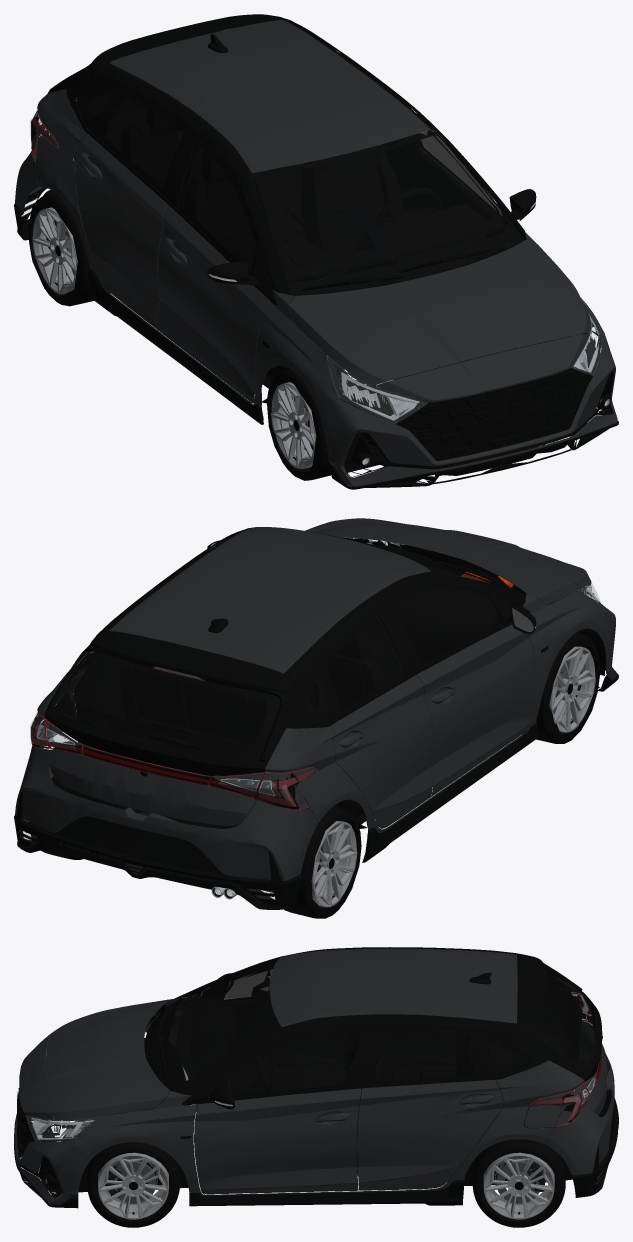
The model's file is nova-leoes-hatch-v1.glb.
3 views of the same model, one above another, from view 1: azimuth 30°, elevation 25°; view 2: azimuth 150°, elevation 25°; view 3: azimuth 270°, elevation 25° (orthographic). The views are drawn at different scales.
Visible parts, largest first — view 1: NL_CARROCERIA_PINTURA, NL_CARROCERIA_VIDRO, NL_CARROCERIA_INTERIOR, NL_CARROCERIA_PRETO, NL_TETO_PINTURA, NL_CAPO_PINTURA, NL_CARROCERIA_PLASTICO, NL_CARROCERIA_RODA, NL_CARROCERIA_PNEU, NL_CARROCERIA_LENTE, NL_CARROCERIA_CROMO, NL_PORTA_DE_VIDRO (+4 smaller); view 2: NL_CARROCERIA_PINTURA, NL_CARROCERIA_PRETO, NL_CARROCERIA_VIDRO, NL_CARROCERIA_INTERIOR, NL_TETO_PINTURA, NL_CARROCERIA_PLASTICO, NL_CAPO_PINTURA, NL_CARROCERIA_RODA, NL_CARROCERIA_PNEU, NL_CARROCERIA_LENTE, NL_CARROCERIA_LANTERNA, NL_TETO_PLASTICO (+1 smaller); view 3: NL_CARROCERIA_INTERIOR, NL_CARROCERIA_PRETO, NL_TETO_PINTURA, NL_PORTA_DE_PINTURA, NL_CARROCERIA_PINTURA, NL_CARROCERIA_VIDRO, NL_PORTA_TE_PINTURA, NL_CAPO_PINTURA, NL_PORTA_DE_VIDRO, NL_CARROCERIA_PLASTICO, NL_PARALAMA_DE_PINTURA, NL_PORTA_TE_VIDRO (+17 smaller).
Boxes of the visible parts, bbox=[...] form: NL_CARROCERIA_PINTURA: bbox=[15, 88, 617, 486]; NL_CARROCERIA_VIDRO: bbox=[77, 28, 523, 295]; NL_CARROCERIA_INTERIOR: bbox=[75, 75, 507, 382]; NL_CARROCERIA_PRETO: bbox=[14, 14, 618, 489]; NL_TETO_PINTURA: bbox=[109, 20, 430, 173]; NL_CAPO_PINTURA: bbox=[289, 239, 591, 385]; NL_CARROCERIA_PLASTICO: bbox=[26, 83, 613, 484]; NL_CARROCERIA_RODA: bbox=[32, 207, 316, 468]; NL_CARROCERIA_PNEU: bbox=[28, 192, 337, 480]; NL_CARROCERIA_LENTE: bbox=[22, 109, 610, 464]; NL_CARROCERIA_CROMO: bbox=[37, 115, 609, 464]; NL_PORTA_DE_VIDRO: bbox=[421, 130, 501, 215]; NL_CARROCERIA_PINTURA: bbox=[15, 522, 617, 880]; NL_CARROCERIA_PRETO: bbox=[14, 527, 618, 909]; NL_CARROCERIA_VIDRO: bbox=[53, 531, 501, 760]; NL_CARROCERIA_INTERIOR: bbox=[73, 565, 507, 817]; NL_TETO_PINTURA: bbox=[109, 527, 430, 673]; NL_CARROCERIA_PLASTICO: bbox=[19, 534, 612, 889]; NL_CAPO_PINTURA: bbox=[305, 518, 591, 604]; NL_CARROCERIA_RODA: bbox=[311, 646, 595, 907]; NL_CARROCERIA_PNEU: bbox=[284, 631, 599, 918]; NL_CARROCERIA_LENTE: bbox=[20, 582, 601, 899]; NL_CARROCERIA_LANTERNA: bbox=[31, 666, 317, 809]; NL_TETO_PLASTICO: bbox=[105, 528, 433, 674]; NL_CARROCERIA_INTERIOR: bbox=[175, 961, 582, 1175]; NL_CARROCERIA_PRETO: bbox=[14, 947, 618, 1208]; NL_TETO_PINTURA: bbox=[269, 948, 517, 1027]; NL_PORTA_DE_PINTURA: bbox=[194, 1088, 361, 1194]; NL_CARROCERIA_PINTURA: bbox=[14, 976, 614, 1204]; NL_CARROCERIA_VIDRO: bbox=[155, 957, 597, 1090]; NL_PORTA_TE_PINTURA: bbox=[357, 1079, 503, 1190]; NL_CAPO_PINTURA: bbox=[44, 999, 170, 1119]; NL_PORTA_DE_VIDRO: bbox=[227, 1032, 358, 1097]; NL_CARROCERIA_PLASTICO: bbox=[17, 958, 618, 1204]; NL_PARALAMA_DE_PINTURA: bbox=[73, 1091, 208, 1195]; NL_PORTA_TE_VIDRO: bbox=[375, 1031, 473, 1083].
Bounding box in the file's own units: 2.02 × 1.47 × 4.
